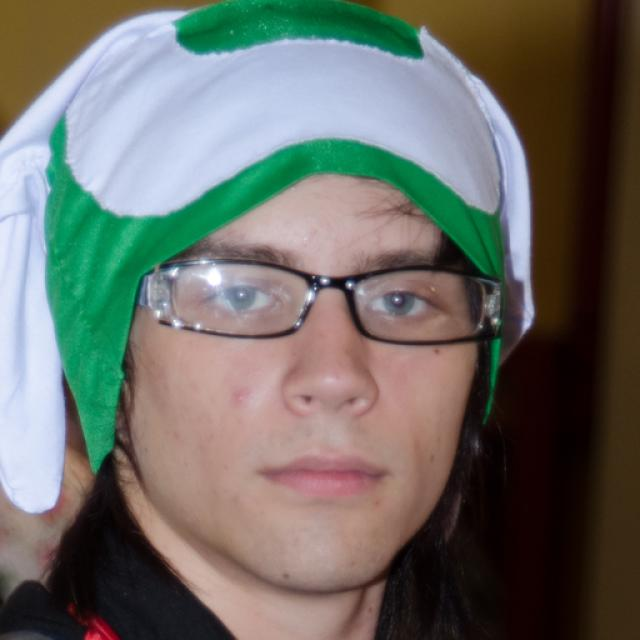Acne: (224, 386, 258, 415)
